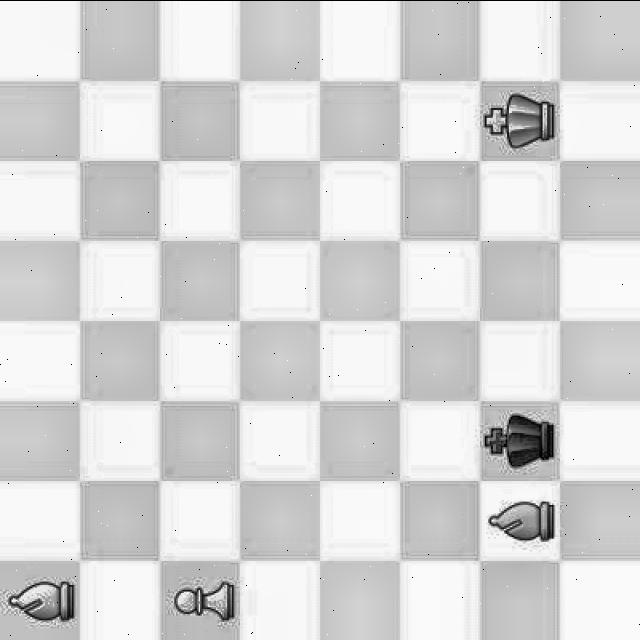black king: (480, 401, 554, 469)
white bishop: (0, 563, 78, 638), (491, 494, 555, 547)
white king: (478, 80, 560, 156)
white pawn: (169, 572, 239, 630)
